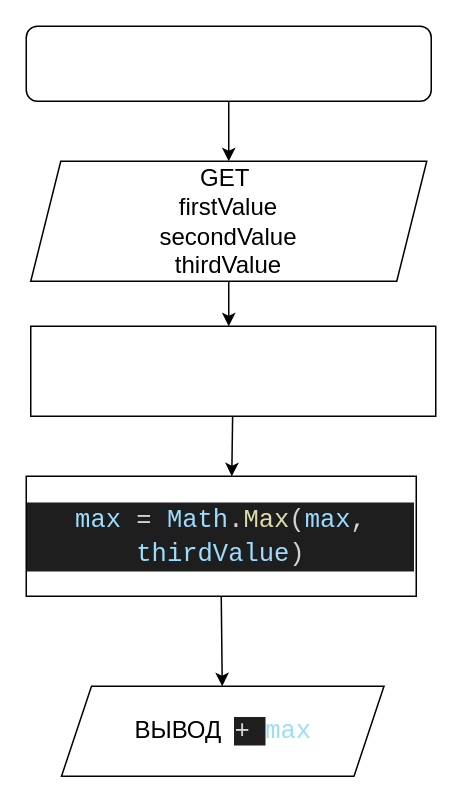
Some shapes in this 462 by 803 pixel diagram are drawn without their labels. The shapes that lost their labels are listed below. From the top down, each one's centre as x and y in pixels, then its label:
At point (228, 63): "START".
At point (232, 370): "max = Math . Max ( firstValue , secondValue )".
